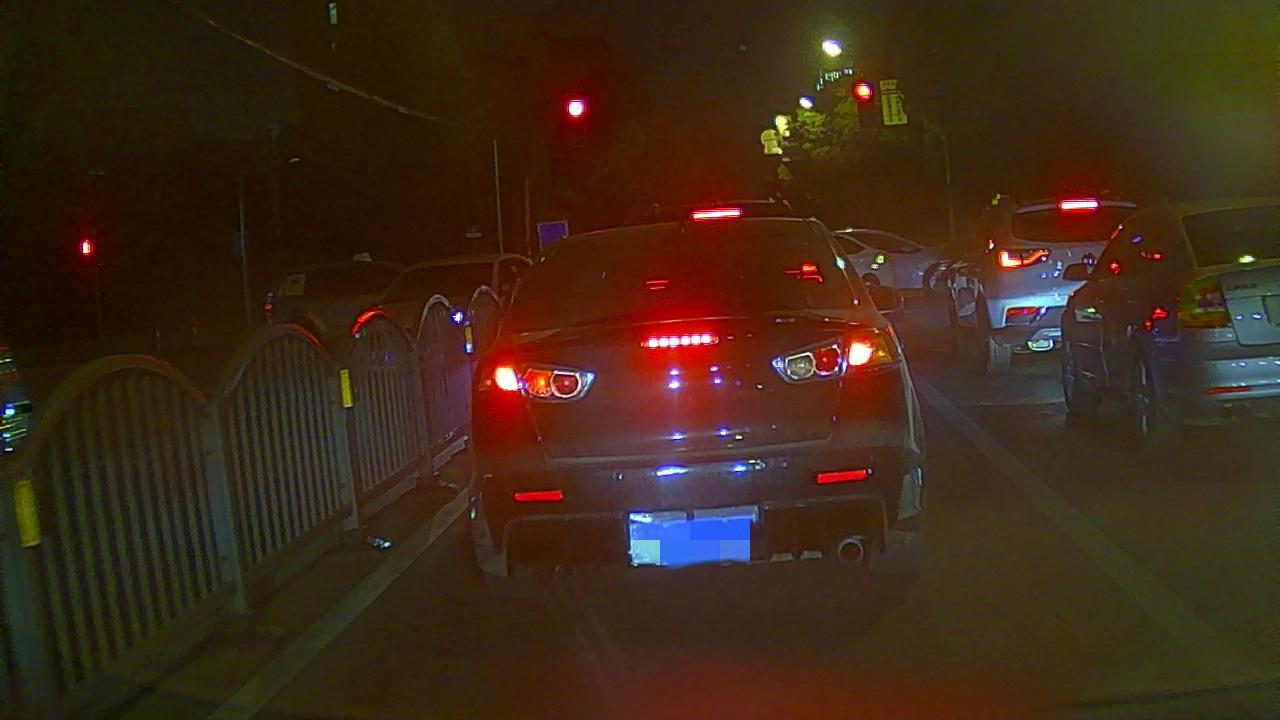traffic_light: (562, 91, 591, 123), (851, 78, 876, 103)
